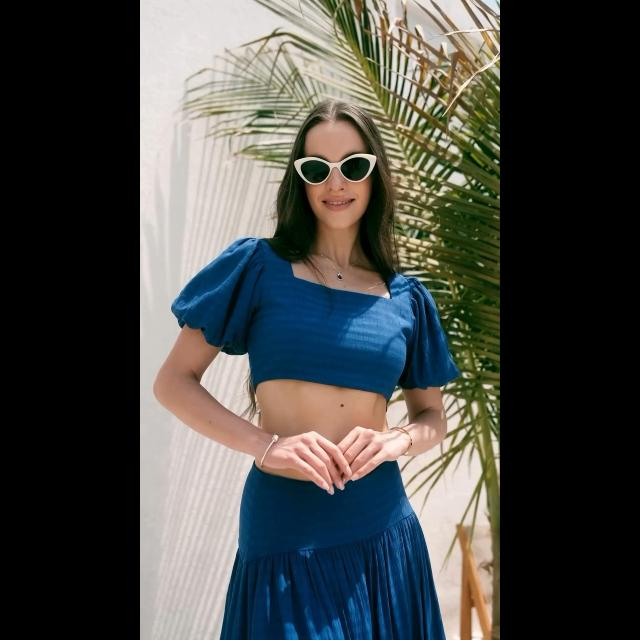bottom: (225, 462, 441, 640)
glasses: (292, 156, 381, 184)
top: (172, 228, 460, 386)
